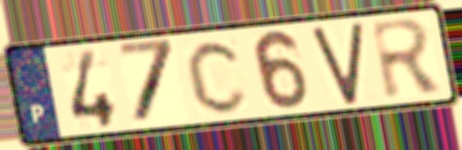4: (67, 46, 118, 130)
6: (250, 27, 311, 114)
7: (115, 37, 179, 129)
C: (184, 37, 251, 116)
R: (367, 15, 447, 102)
V: (308, 18, 366, 108)
